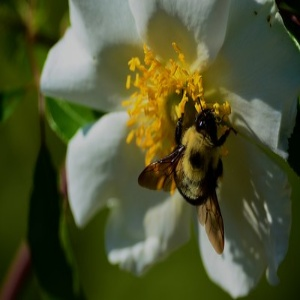bee: (169, 96, 230, 254)
